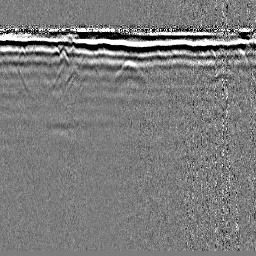cavity: (114, 60, 143, 79)
